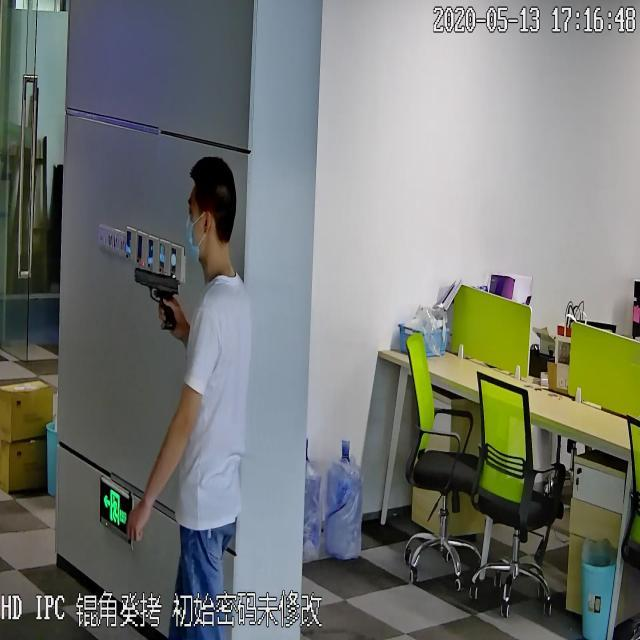gun: (132, 256, 180, 336)
